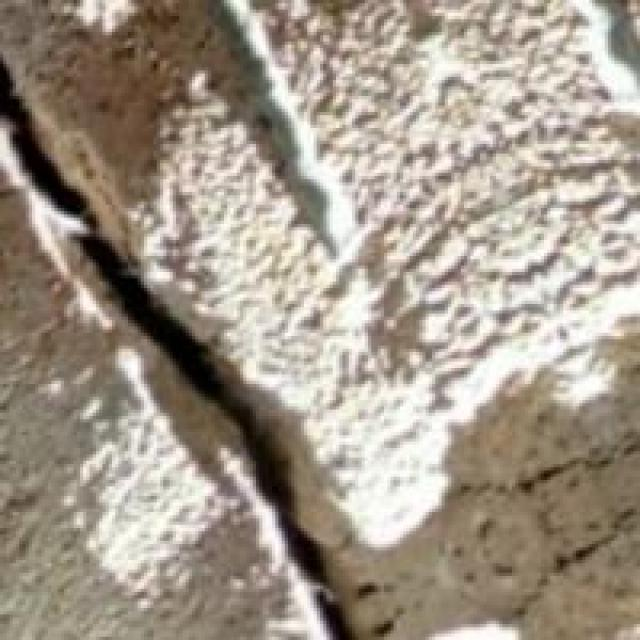crack: (0, 48, 419, 637)
